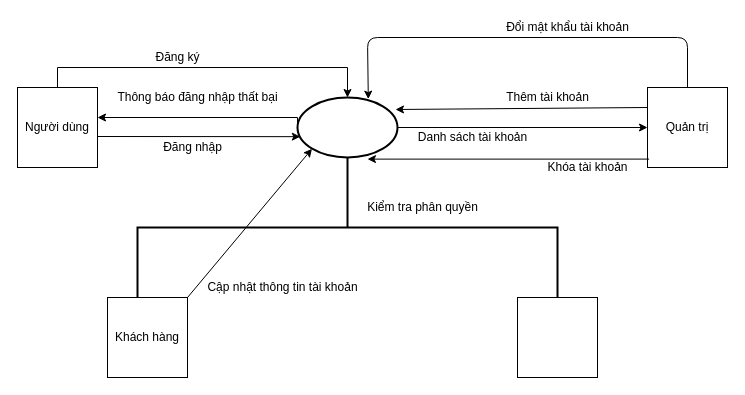
Image size: 745x395. Some labels were removed from this diagram. Here are the shapes that lost their labels. From the top down, the centre of each, then its label:
At pixel 347 127: "Quản lí tài khoản".
At pixel 557 337: "Nhân viên".
